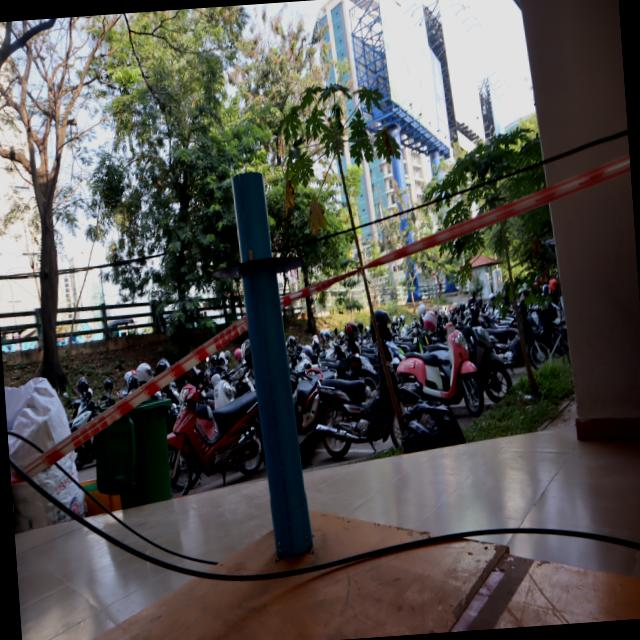pole: (204, 164, 308, 358)
